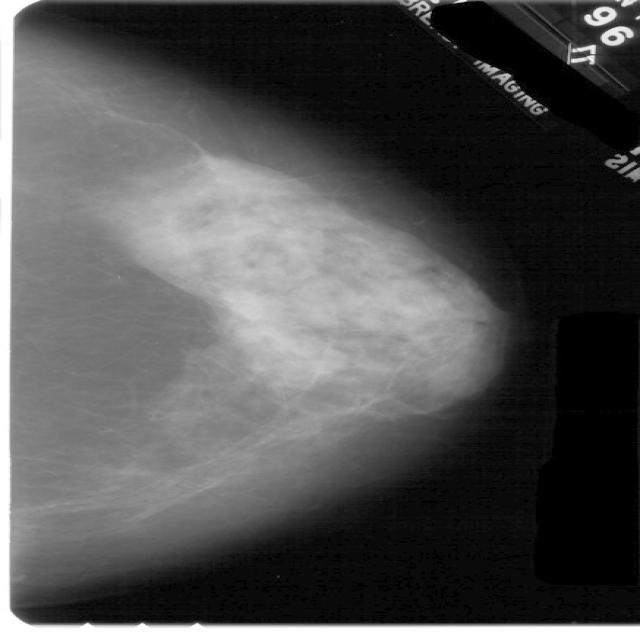tumour: (215, 287, 271, 321)
